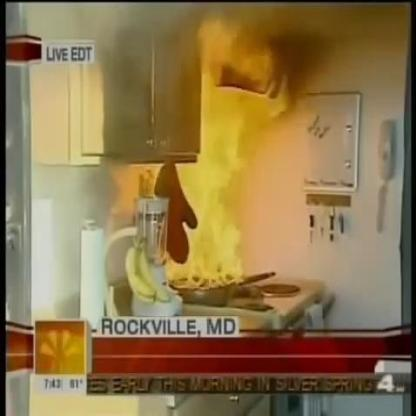fire: (158, 17, 289, 291)
